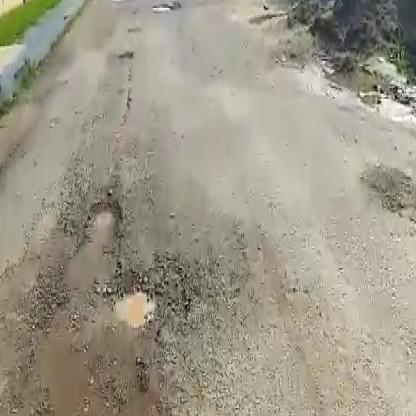pothole: (114, 252, 208, 333), (85, 197, 120, 239)
